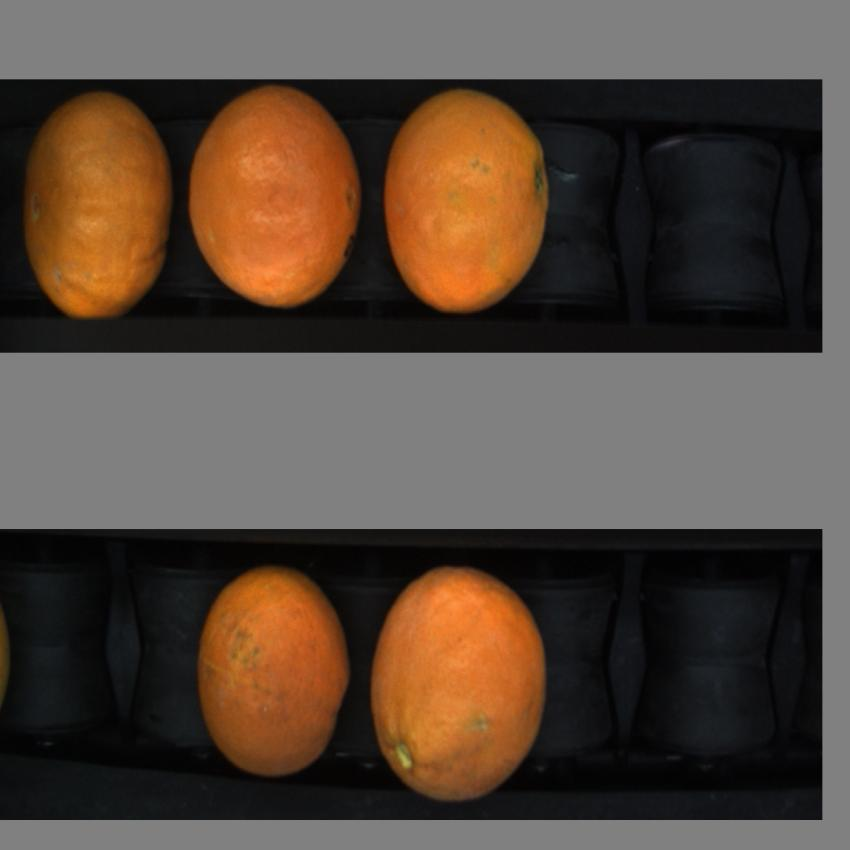Buen estado: (366, 556, 557, 812), (186, 556, 362, 794), (379, 87, 559, 317)
Mal estado: (181, 86, 366, 320), (17, 90, 172, 327)
